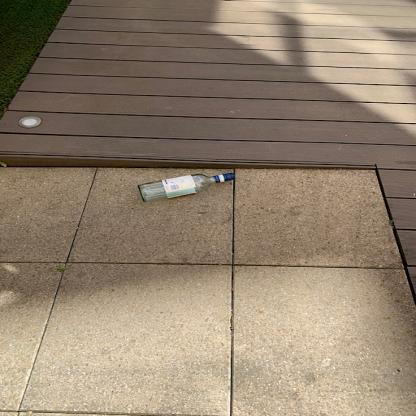trash: (134, 168, 241, 207)
